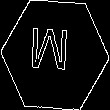M_S: (33, 28, 77, 82)
